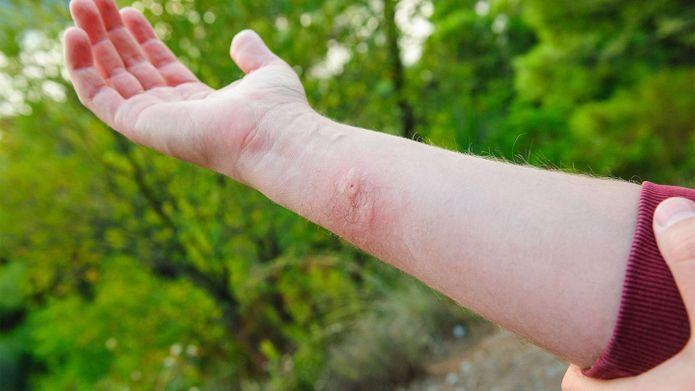Yellow-Jacket: (311, 157, 411, 239)
